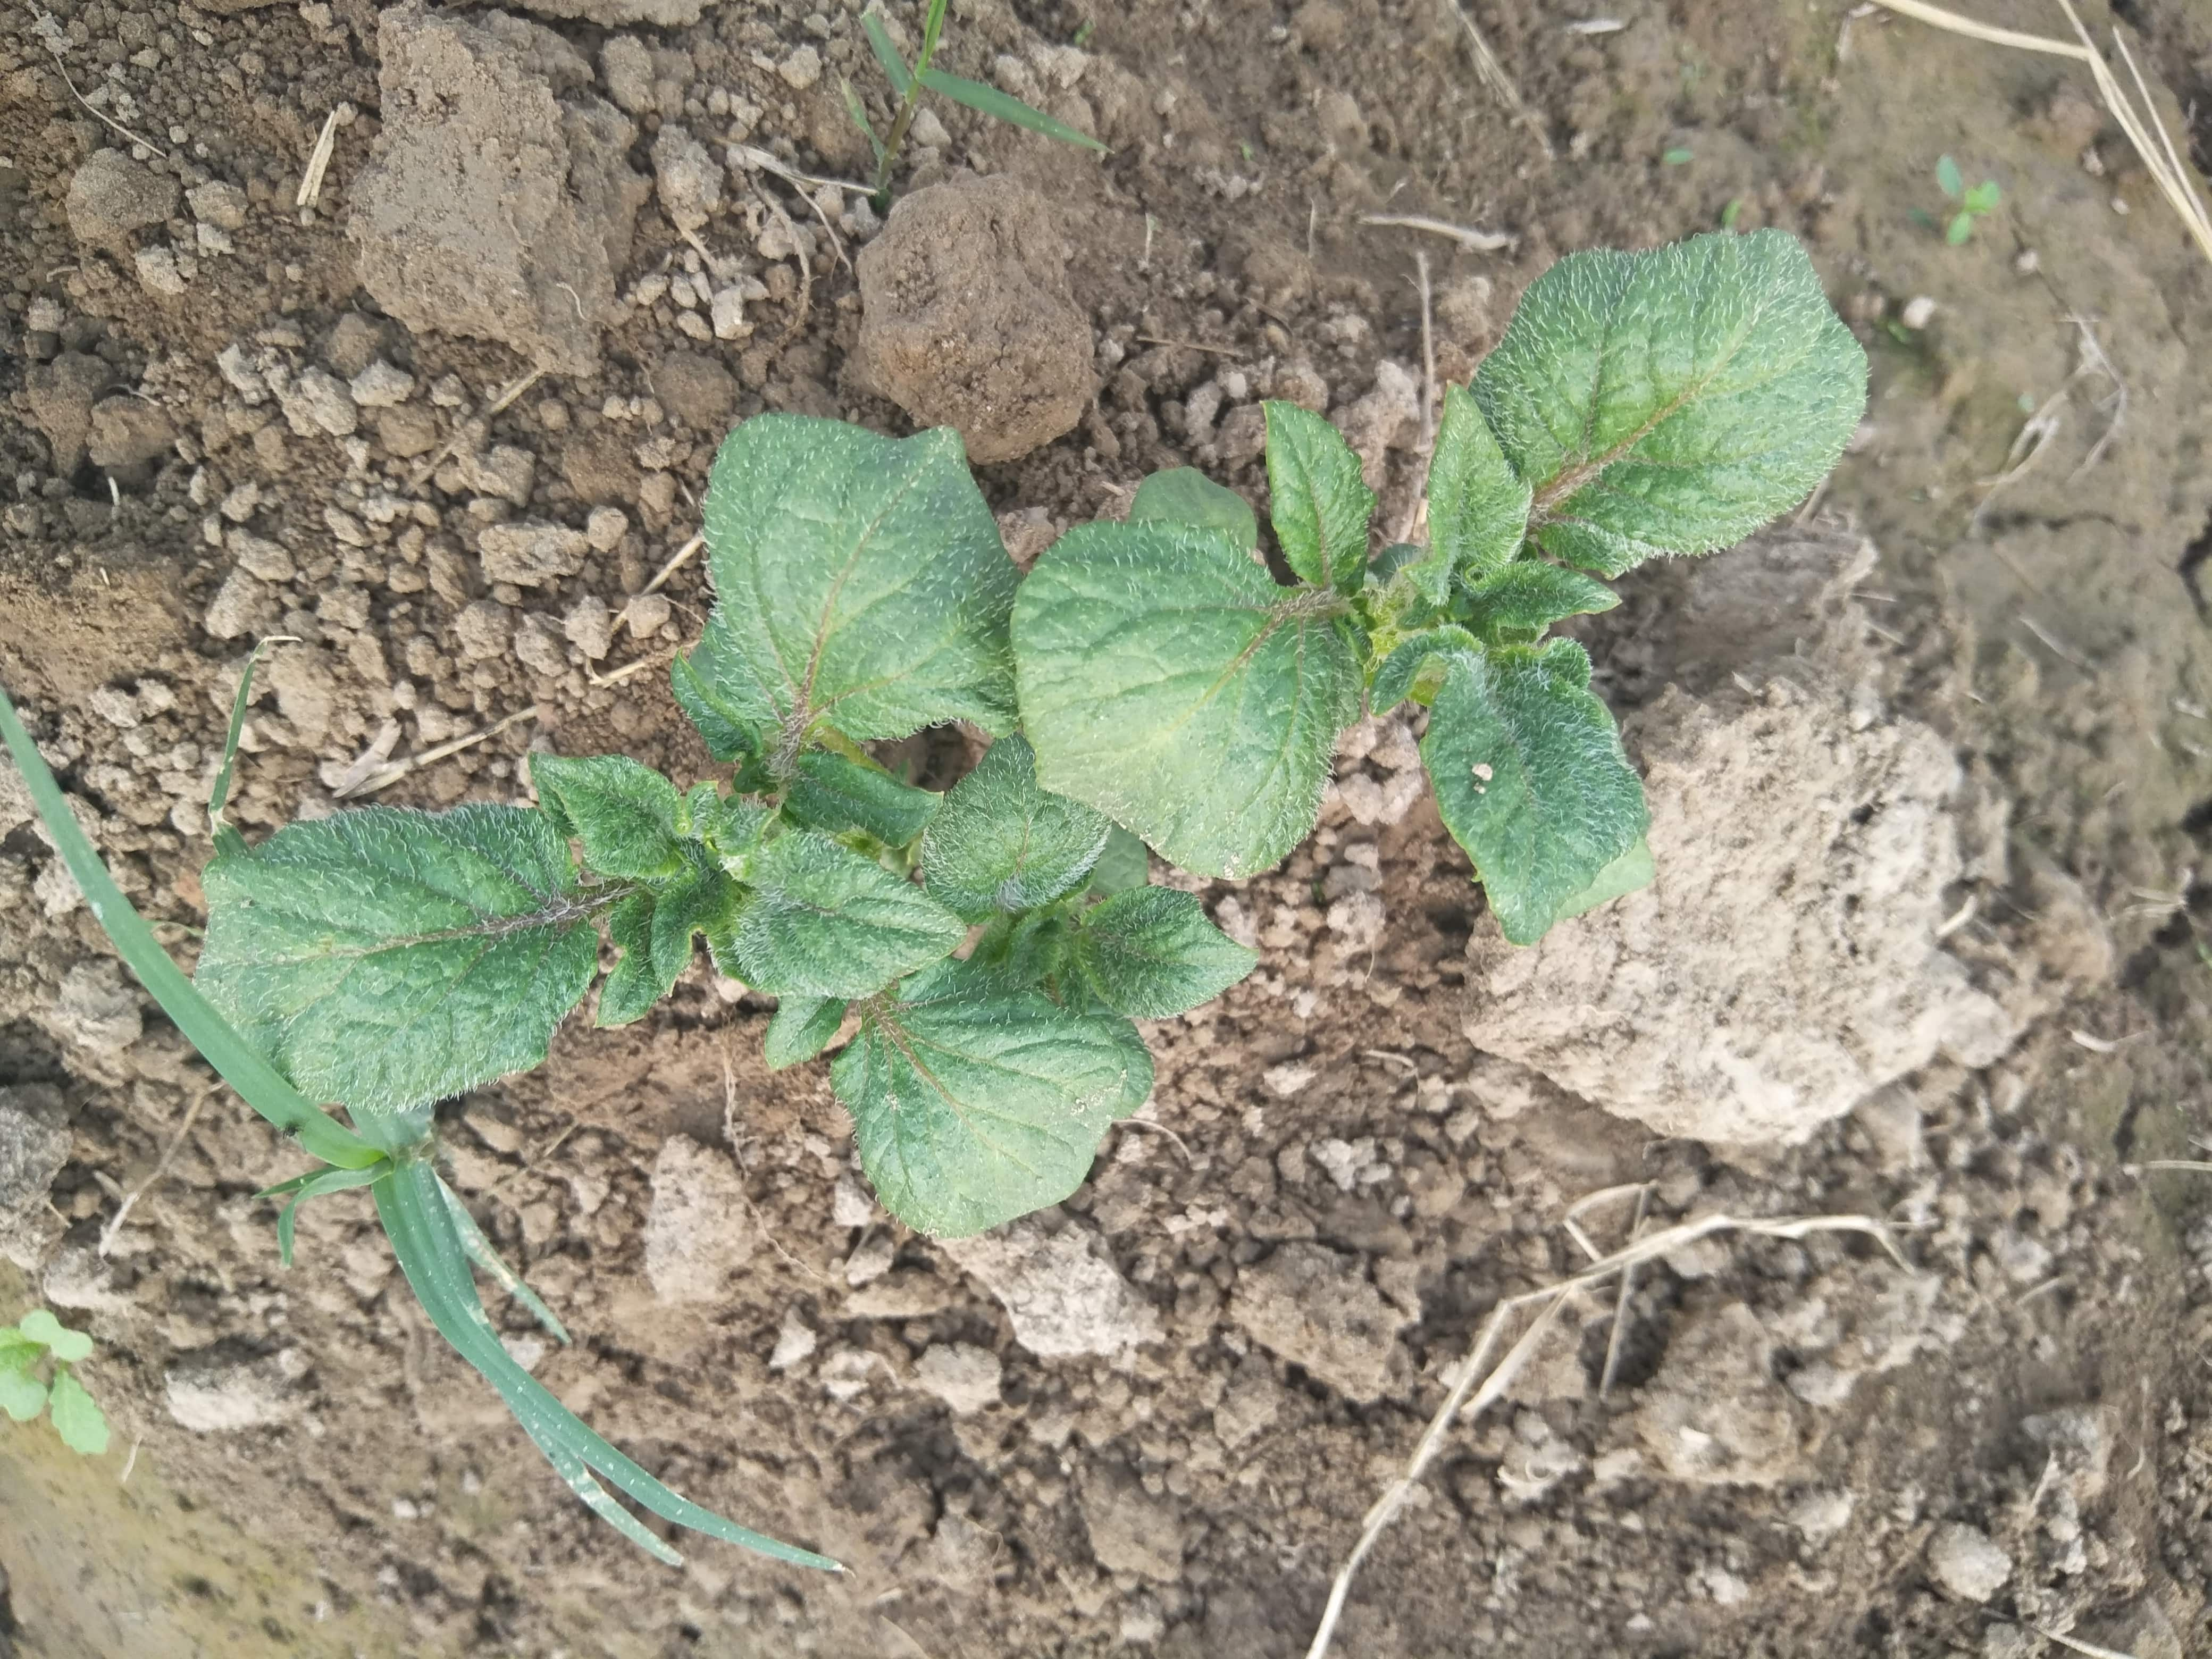daun: (1024, 460, 1331, 866), (1519, 228, 1853, 552), (190, 816, 587, 1084), (704, 413, 1014, 744), (852, 978, 1136, 1227), (1440, 678, 1648, 929), (716, 852, 963, 985), (927, 753, 1106, 903), (1420, 380, 1526, 605), (1076, 889, 1254, 1018), (524, 753, 705, 877), (1254, 397, 1360, 598), (1360, 620, 1479, 711), (587, 918, 683, 1014)
